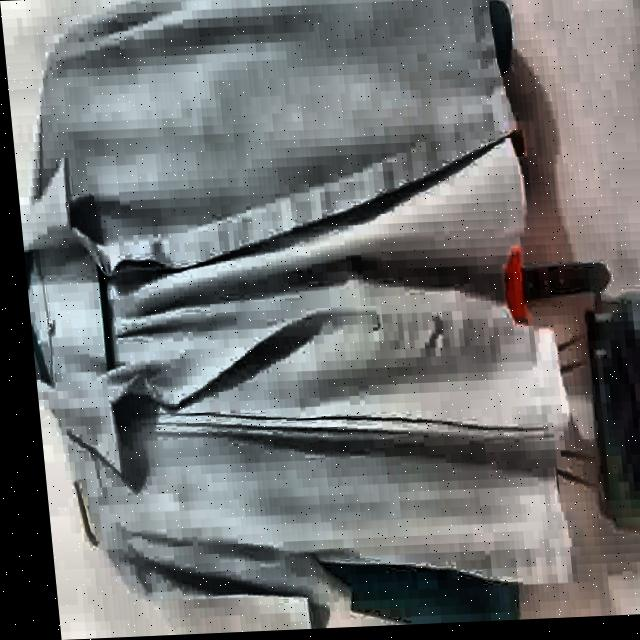clothes: (0, 0, 596, 640)
